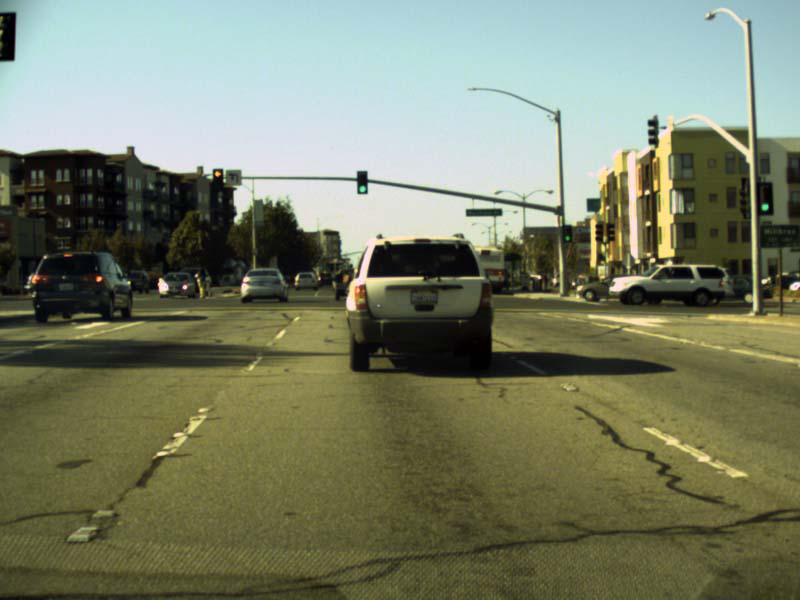Green: (756, 183, 772, 213), (357, 171, 367, 193), (561, 225, 572, 242)
Red: (213, 169, 222, 189)
